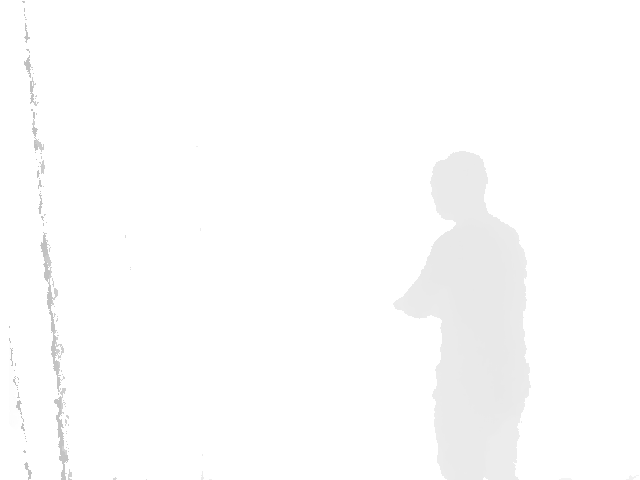head: (429, 151, 487, 222)
person: (393, 151, 531, 480)
